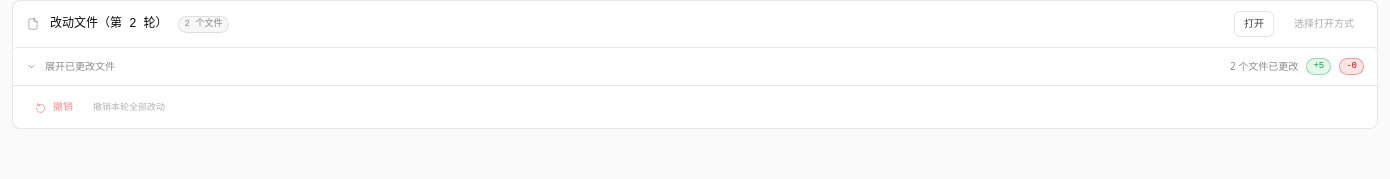
Test: DiffCard · 展开 / 打开交互 › store 缺该 review：主文件名回退轮次文案，展开给归档提示（不伪造文件列表）
Check: the element with test id "diff-card" shows "改动文件（第 2 轮）", box [50, 17, 168, 31]
Check: the button with test id "diff-card-open-with" is disabled, box [1284, 11, 1364, 37]
Click the button with test id "diff-card-expand": coordinates (80, 66) [13, 47, 1377, 85]
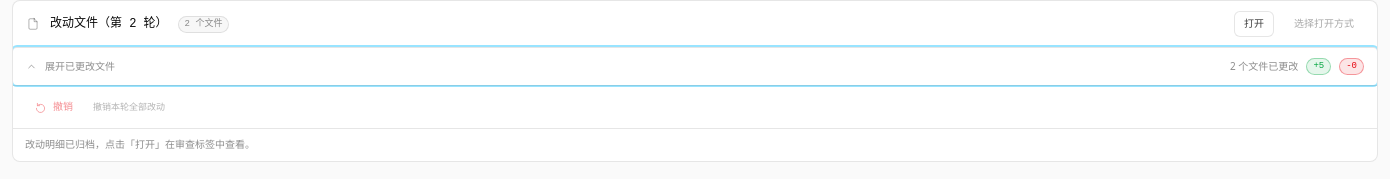
Check: the text "改动明细已归档，点击「打开」在审查标签中查看。" is shown, box [25, 137, 255, 151]
